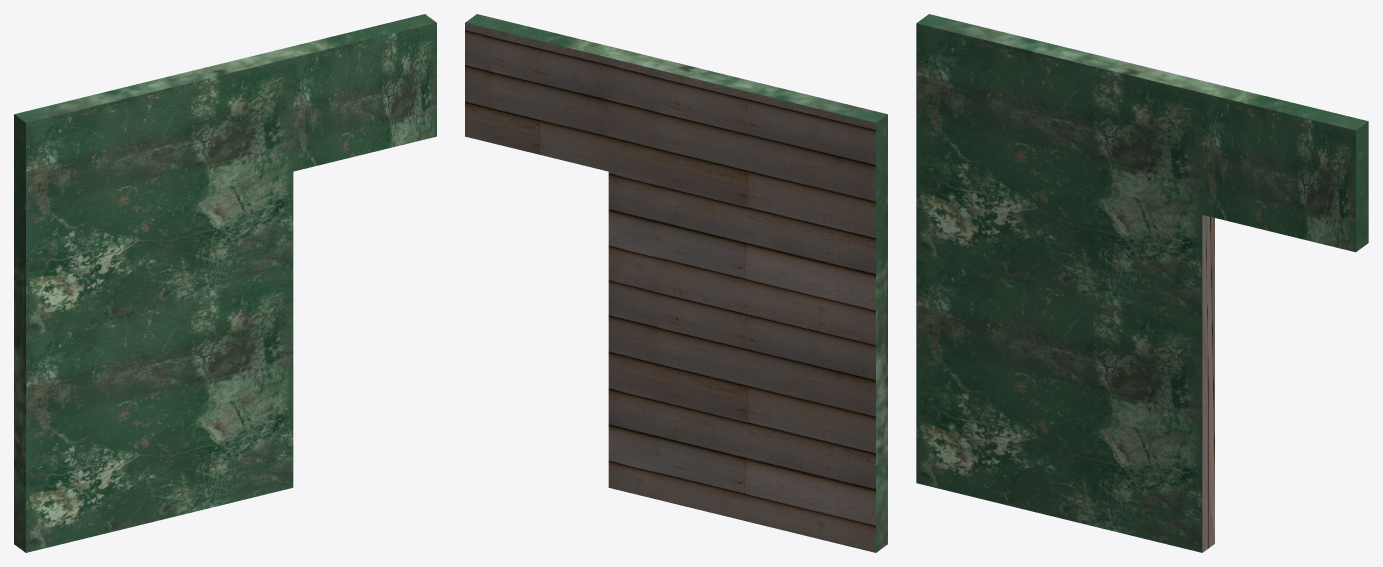
Rendered from WallDoorInd.fbx.
3 views of the same model, side by side, from view 1: azimuth 30°, elevation 25°; view 2: azimuth 150°, elevation 25°; view 3: azimuth 330°, elevation 25° (orthographic). The views are drawn at different scales.
Parts seen in each view (by area): view 1: Wall2; view 2: Wall2; view 3: Wall2.
Part boxes in pixels (bbox=[...]): Wall2: bbox=[14, 14, 436, 552]; Wall2: bbox=[465, 14, 887, 552]; Wall2: bbox=[916, 14, 1368, 552].
Size of the model in its own units: 400 by 400 by 20.
3 materials, 3 textured.
